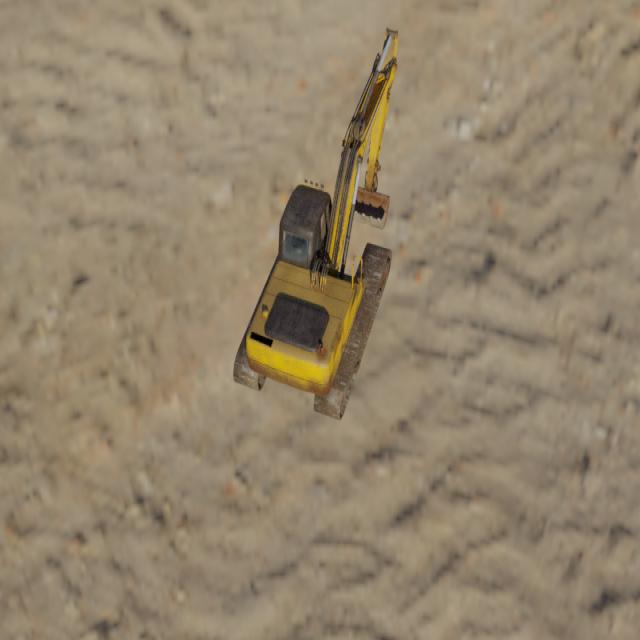excavator: (232, 27, 398, 420)
